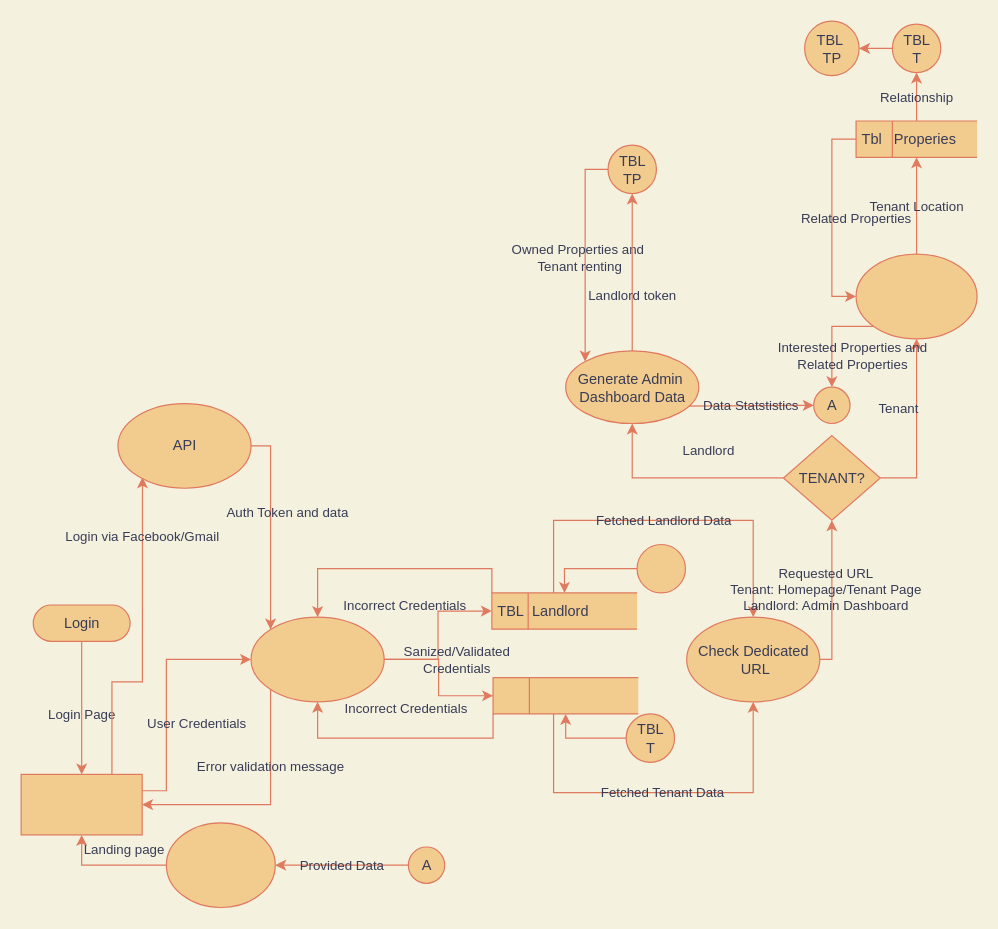
Image size: 998x929. Some labels were removed from this diagram. The shapes that lost their labels are listed below. From the top down, each one's centre as x and y in pixels, then its label:
At point 916,296: "Generate Home page".
At point 660,568: "TBL L".
At point 317,659: "Login System".
At point 565,695: "TBL Tenant".
At point 81,804: "User".
At point 220,865: "Displaying dedicated Landing page".
